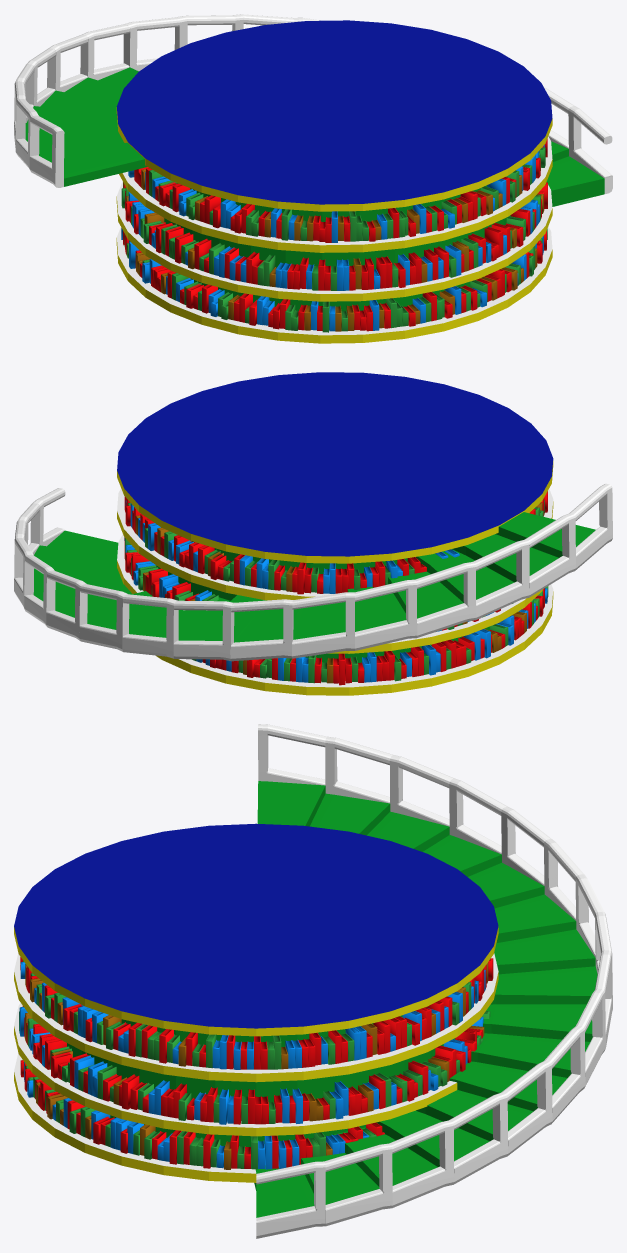
The model's file is RoundShelf.fbx.
3 views of the same model, one above another, from view 1: azimuth 30°, elevation 25°; view 2: azimuth 150°, elevation 25°; view 3: azimuth 270°, elevation 25° (orthographic). The views are drawn at different scales.
Parts seen in each view (by area): view 1: Shelf, Stairs, Books.001, Books, Books.002; view 2: Shelf, Stairs, Books, Books.002, Books.001; view 3: Shelf, Stairs, Books.001, Books.002, Books.
Boxes of the visible parts, <box> form: Shelf: <box>116,20,552,343</box>; Stairs: <box>14,14,612,206</box>; Books.001: <box>121,182,547,290</box>; Books: <box>121,228,547,332</box>; Books.002: <box>128,138,547,242</box>; Shelf: <box>117,372,553,695</box>; Stairs: <box>14,483,612,661</box>; Books: <box>192,586,548,685</box>; Books.002: <box>124,491,547,594</box>; Books.001: <box>124,537,513,631</box>; Shelf: <box>14,823,498,1182</box>; Stairs: <box>254,724,612,1238</box>; Books.001: <box>19,1006,490,1124</box>; Books.002: <box>20,957,493,1069</box>; Books: <box>20,1060,384,1169</box>.
Bounding box in the file's own units: 838 × 281 × 703.
